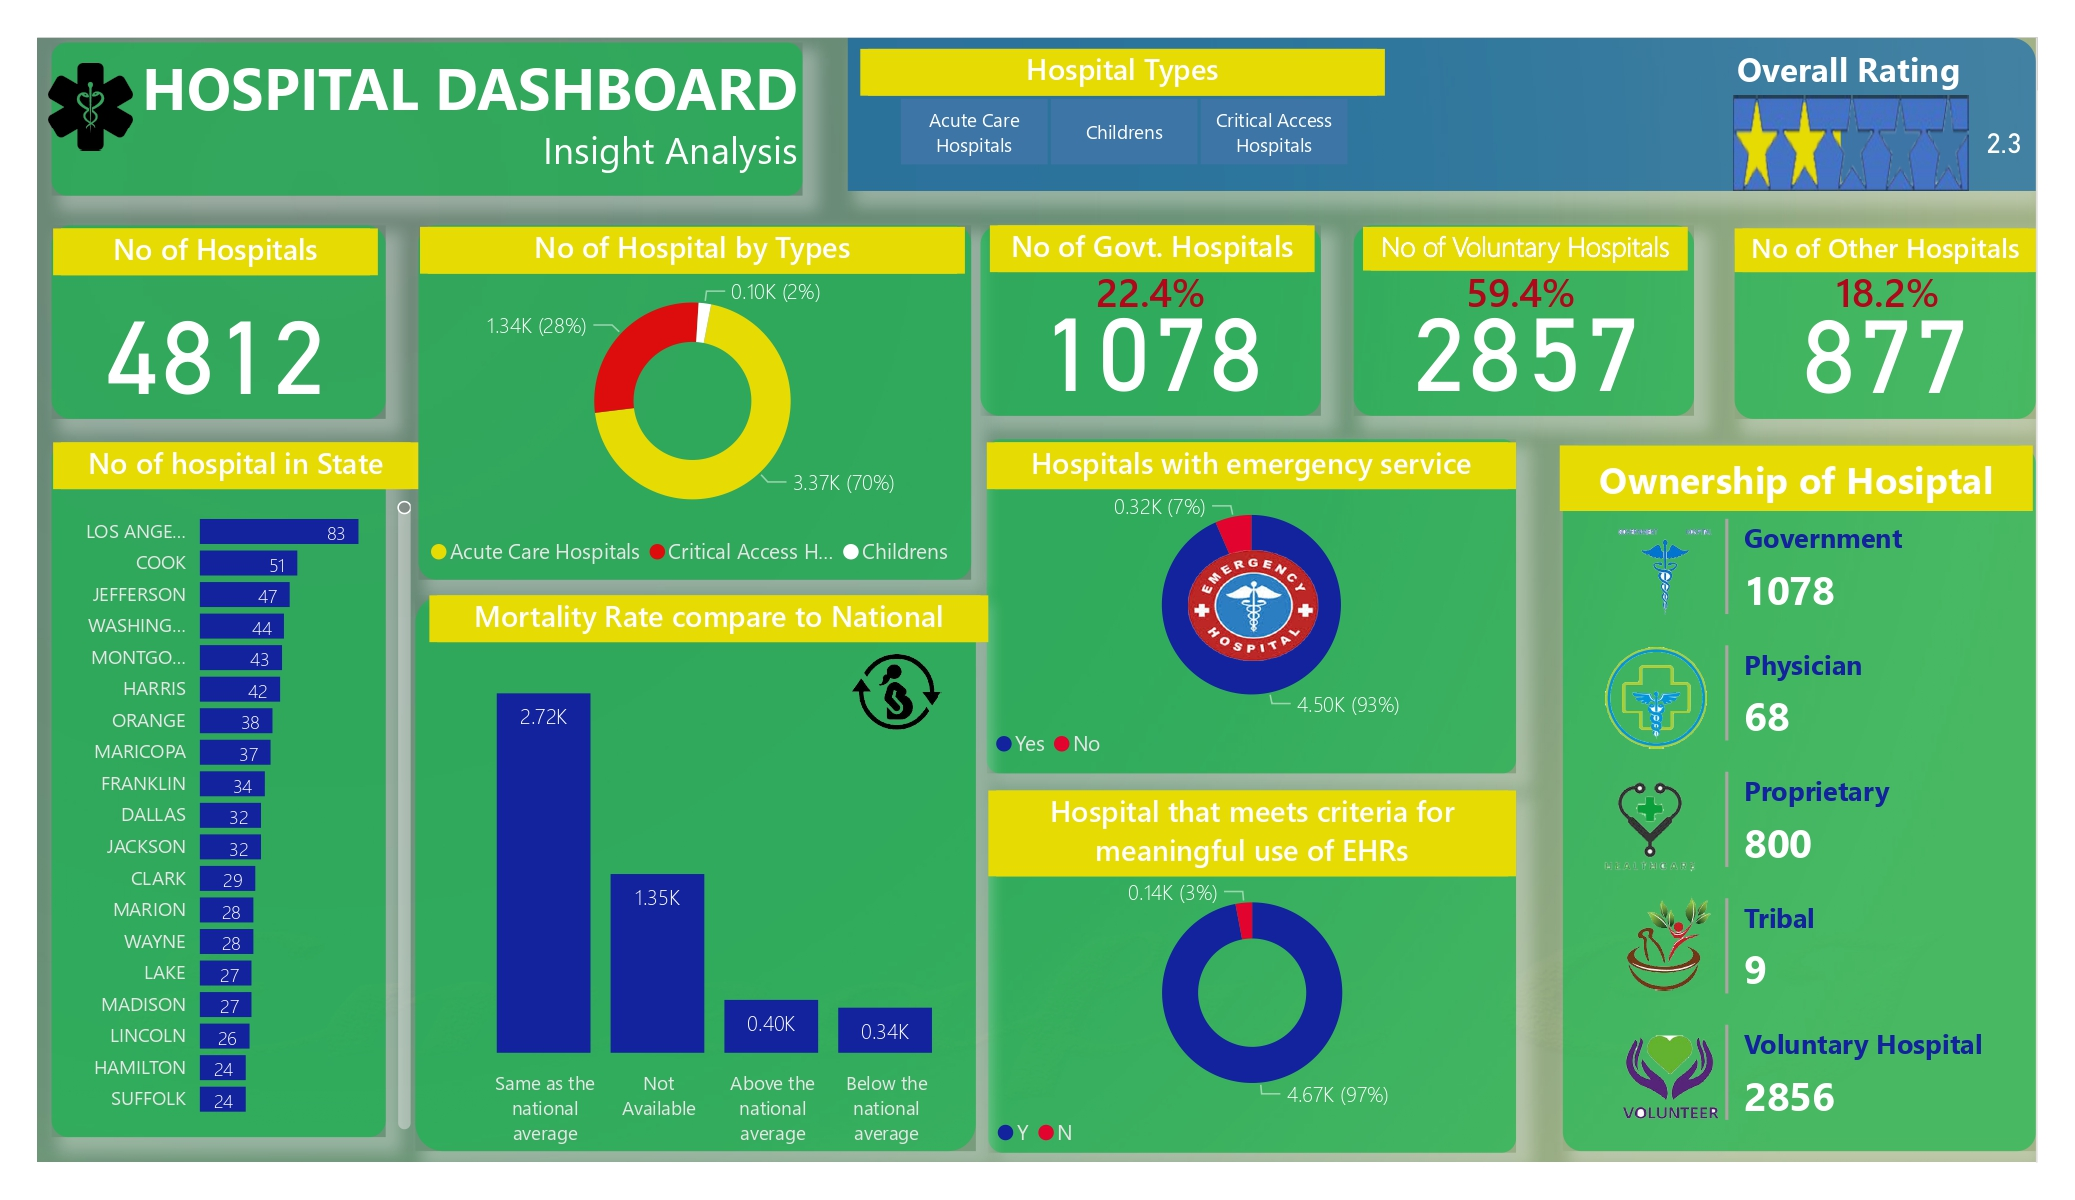

Layout of this report page (visuals, bound fields, positions):
{"tool":"powerbi","page":{"name":"Page 1","canvas":[1280,720],"ordinal":0},"visuals":[{"type":"shape","title":"Hospital Dashboard","box":[1081.4,120.5,192.8,121.9],"z":0,"group":"g4"},{"type":"shape","title":"Hospital Dashboard","box":[609.4,481.9,337.3,232.4],"z":0},{"type":"shape","title":"Hospital Dashboard","box":[608,256.5,338.7,214],"z":1000},{"type":"shape","title":"Hospital Dashboard","box":[8.5,2.8,481.9,97.8],"z":2000},{"type":"textbox","box":[304.7,49.6,187.1,55.3],"z":3000},{"type":"shape","title":"Hospital Dashboard","box":[243.8,120.5,354.3,226.8],"z":3000,"group":"g1"},{"type":"shape","title":"Hospital Dashboard","box":[8.5,259.4,214,445],"z":4000},{"type":"shape","title":"Hospital Dashboard","box":[8.5,120.5,214,123.3],"z":5000},{"type":"card","title":"No of Hospitals","fields":{"Values":["Count(Hospital Info.Provider ID)"]},"box":[9.9,121.9,208.3,121.9],"z":6000},{"type":"shape","title":"Hospital Dashboard","box":[518.7,0,761.1,97.8],"z":7000,"group":"g6"},{"type":"donutChart","title":"No of Hospital by Types","fields":{"Y":["CountNonNull(Hospital Info.Hospital Type)"],"Category":["Hospital Info.Hospital Type"]},"box":[245.2,121.9,348.7,226.8],"z":7000,"group":"g1"},{"type":"clusteredBarChart","title":"No of hospital in State","fields":{"Category":["Hospital Info.country"],"Y":["CountNonNull(Hospital Info.Provider ID)"]},"box":[9.9,259.4,233.9,445],"z":7000},{"type":"slicer","title":"Hospital Types","fields":{"Values":["Hospital Info.Hospital Type"]},"box":[527.2,7.1,335.9,80.8],"z":8000,"group":"g6"},{"type":"shape","title":"Hospital Dashboard","box":[242.4,357.2,358.6,355.7],"z":8000},{"type":"barChart","title":"No of Hospital by Types","fields":{"Y":["Other measures.Av. Rating","Other measures.Remain Rating"]},"box":[1087,32.6,180,65.2],"z":9000,"group":"g6"},{"type":"group","id":"g1","title":"Group 1","box":[243.8,120.5,354.3,228.2],"z":9000},{"type":"shape","title":"Hospital Dashboard","box":[603.8,120.5,218.3,121.9],"z":9000,"group":"g2"},{"type":"group","id":"g2","title":"Group 2","box":[603.8,120.5,218.3,121.9],"z":10000},{"type":"textbox","box":[1075.7,0,168.7,49.6],"z":11000,"group":"g6"},{"type":"group","id":"g3","title":"Group 3","box":[843.3,120.5,218.3,123.3],"z":11000},{"type":"group","id":"g4","title":"Group 4","box":[1081.4,120.5,192.8,121.9],"z":12000},{"type":"columnChart","title":"Mortality Rate compare to National","fields":{"Category":["Hospital Info.Mortality national comparison"],"Y":["CountNonNull(Hospital Info.Mortality national comparison)"]},"box":[250.9,357.2,358.6,360],"z":13000},{"type":"donutChart","title":"Hospital that meets criteria for meaningful use of EHRs","fields":{"Category":["Hospital Info.Meets criteria for meaningful use of EHRs"],"Y":["CountNonNull(Hospital Info.Meets criteria for meaningful use of EHRs)"]},"box":[609.4,481.9,337.3,238.1],"z":14000},{"type":"shape","title":"Hospital Dashboard","box":[976.5,260.8,303.3,452.1],"z":15000},{"type":"card","title":"No of Govt. Hospitals","fields":{"Values":["Other measures.Govt hospital"]},"box":[609.5,120.5,208.3,121.9],"z":16000,"group":"g2"},{"type":"donutChart","title":"Hospitals with emergency service","fields":{"Category":["Hospital Info.Emergency Services"],"Y":["CountNonNull(Hospital Info.Emergency Services)"]},"box":[608,259.4,338.7,211.2],"z":16000},{"type":"card","title":"No of Govt. Hospitals","fields":{"Values":["Other measures.Av. Rating"]},"box":[1238.7,46.8,41.1,41.1],"z":17000,"group":"g6"},{"type":"image","box":[725.7,321.7,106.3,85],"z":17000},{"type":"shape","title":"Hospital Dashboard","box":[843.3,120.5,218.3,121.9],"z":18000,"group":"g3"},{"type":"image","box":[494.6,384.1,110.6,68],"z":18000},{"type":"image","box":[0,11.3,68,65.2],"z":19000},{"type":"card","title":"No of Voluntary Hospitals","fields":{"Values":["Other measures.Voluntry hospital"]},"box":[849,121.9,208.3,121.9],"z":19000,"group":"g3"},{"type":"card","title":"No of Other Hospitals","fields":{"Values":["Other measures.Other hospital"]},"box":[1081.4,120.5,192.8,121.9],"z":20000,"group":"g4"},{"type":"textbox","box":[975.1,260.8,303.3,42.5],"z":20000},{"type":"group","id":"g5","title":"Group 5","box":[980.6,303.3,299.2,416.7],"z":21000},{"type":"card","title":"No of Govt. Hospitals","fields":{"Values":["Other measures.Govt %"]},"box":[669,143.1,87.9,41.1],"z":22000},{"type":"multiRowCard","title":"Number of the different kind of hospital in the country","fields":{"Values":["Hospital Info.Hospital Ownership (groups)","CountNonNull(Hospital Info.Hospital Name)"]},"box":[1075.7,303.3,204.1,416.7],"z":22000,"group":"g5"},{"type":"card","title":"No of Govt. Hospitals","fields":{"Values":["Other measures.Volu %"]},"box":[905.7,143.1,87.9,41.1],"z":23000},{"type":"card","title":"No of Govt. Hospitals","fields":{"Values":["Other measures.Other %"]},"box":[1140.9,143.1,87.9,41.1],"z":24000},{"type":"image","box":[1002.5,545.8,83.9,69.7],"z":24000,"group":"g5"},{"type":"group","id":"g6","title":"Group 6","box":[518.7,0,761.1,97.8],"z":25000,"group":"g7"},{"type":"image","box":[1002.5,633.5,83.9,65.8],"z":25000,"group":"g5"},{"type":"image","box":[1085.6,36.9,150.2,60.9],"z":26000,"group":"g7"},{"type":"group","id":"g7","title":"Group 7","box":[518.7,0,761.1,97.8],"z":26001},{"type":"image","box":[988.3,307.2,109.7,76.1],"z":27000,"group":"g5"},{"type":"image","box":[982.2,385.5,106.3,75.1],"z":28000,"group":"g5"},{"type":"image","box":[980.6,469.7,103.2,73.5],"z":30000,"group":"g5"}]}

Visuals, with their boxes on the page's 1280x720 design canvas (x1, y1, x2, y2). These are canvas units, not pixel positions in the 2075x1200 screenshot, which may show the page scaled, cropped or inside an application window:
"Hospital Dashboard" shape: detection(1081, 120, 1274, 242)
"Hospital Dashboard" shape: detection(609, 482, 947, 714)
"Hospital Dashboard" shape: detection(608, 256, 947, 470)
"Hospital Dashboard" shape: detection(8, 3, 490, 101)
textbox: detection(305, 50, 492, 105)
"Hospital Dashboard" shape: detection(244, 120, 598, 347)
"Hospital Dashboard" shape: detection(8, 259, 222, 704)
"Hospital Dashboard" shape: detection(8, 120, 222, 244)
"No of Hospitals" card: detection(10, 122, 218, 244)
"Hospital Dashboard" shape: detection(519, 0, 1280, 98)
"No of Hospital by Types" donutChart: detection(245, 122, 594, 349)
"No of hospital in State" clusteredBarChart: detection(10, 259, 244, 704)
"Hospital Types" slicer: detection(527, 7, 863, 88)
"Hospital Dashboard" shape: detection(242, 357, 601, 713)
"No of Hospital by Types" barChart: detection(1087, 33, 1267, 98)
"Group 1" group: detection(244, 120, 598, 349)
"Hospital Dashboard" shape: detection(604, 120, 822, 242)
"Group 2" group: detection(604, 120, 822, 242)
textbox: detection(1076, 0, 1244, 50)
"Group 3" group: detection(843, 120, 1062, 244)
"Group 4" group: detection(1081, 120, 1274, 242)
"Mortality Rate compare to National" columnChart: detection(251, 357, 610, 717)
"Hospital that meets criteria for meaningful use of EHRs" donutChart: detection(609, 482, 947, 720)
"Hospital Dashboard" shape: detection(976, 261, 1280, 713)
"No of Govt. Hospitals" card: detection(610, 120, 818, 242)
"Hospitals with emergency service" donutChart: detection(608, 259, 947, 471)
"No of Govt. Hospitals" card: detection(1239, 47, 1280, 88)
image: detection(726, 322, 832, 407)
"Hospital Dashboard" shape: detection(843, 120, 1062, 242)
image: detection(495, 384, 605, 452)
image: detection(0, 11, 68, 76)
"No of Voluntary Hospitals" card: detection(849, 122, 1057, 244)
"No of Other Hospitals" card: detection(1081, 120, 1274, 242)
textbox: detection(975, 261, 1278, 303)
"Group 5" group: detection(981, 303, 1280, 720)
"No of Govt. Hospitals" card: detection(669, 143, 757, 184)
"Number of the different kind of hospital in the country" multiRowCard: detection(1076, 303, 1280, 720)
"No of Govt. Hospitals" card: detection(906, 143, 994, 184)
"No of Govt. Hospitals" card: detection(1141, 143, 1229, 184)
image: detection(1002, 546, 1086, 616)
"Group 6" group: detection(519, 0, 1280, 98)
image: detection(1002, 634, 1086, 699)
image: detection(1086, 37, 1236, 98)
"Group 7" group: detection(519, 0, 1280, 98)
image: detection(988, 307, 1098, 383)
image: detection(982, 386, 1088, 461)
image: detection(981, 470, 1084, 543)
